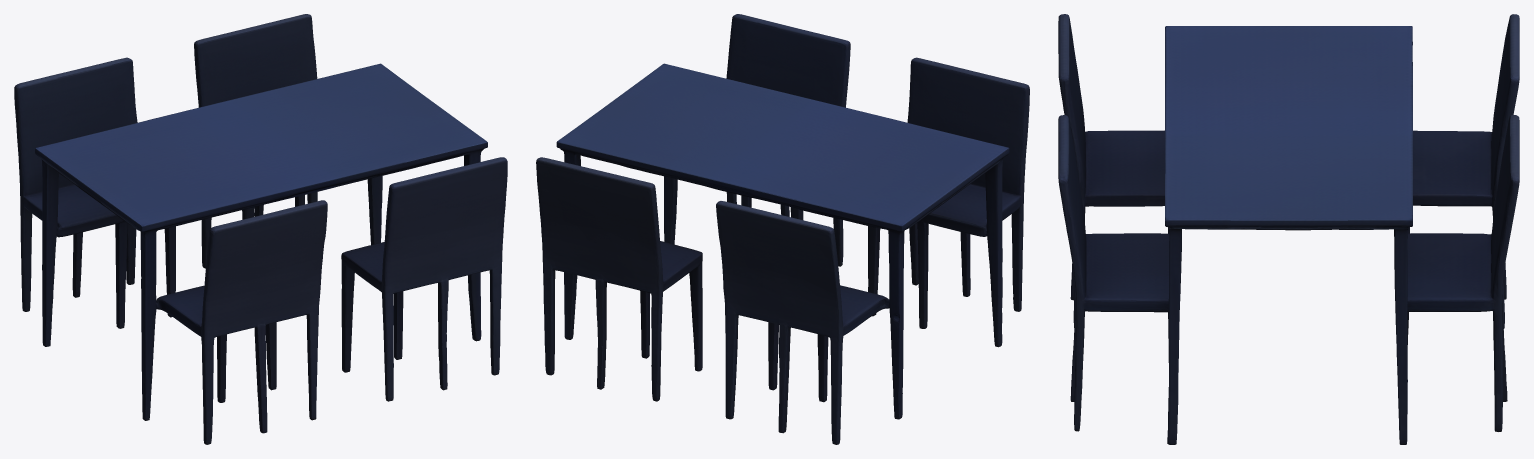
3 renders of one model, left to right at view 1: azimuth 30°, elevation 25°; view 2: azimuth 150°, elevation 25°; view 3: azimuth 270°, elevation 25°, orthographic. The views are drawn at different scales.
Parts seen in each view (by area): view 1: world; view 2: world; view 3: world.
Boxes of the visible parts, bbox=[...] form: world: bbox=[14, 14, 507, 444]; world: bbox=[536, 14, 1029, 444]; world: bbox=[1058, 14, 1519, 444].
Bounding box in the file's own units: 0.9994 × 0.6121 × 1.
1 material, 1 textured.
